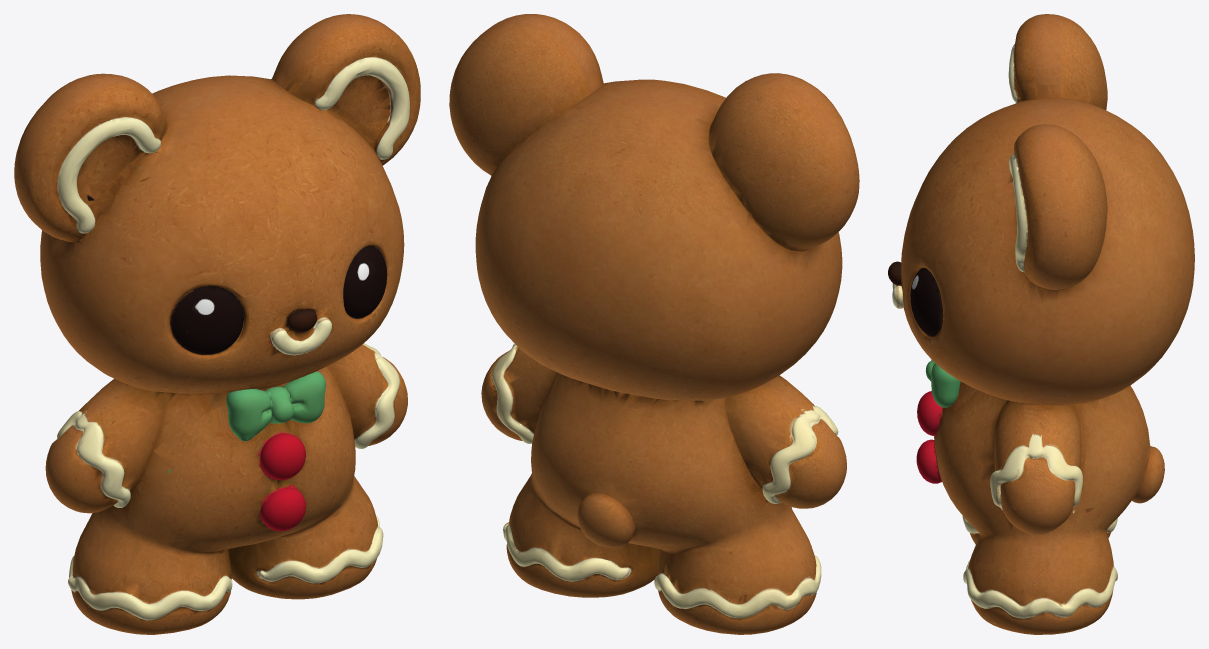
The model's file is Ginger.fbx.
3 renders of one model, left to right at view 1: azimuth 30°, elevation 25°; view 2: azimuth 150°, elevation 25°; view 3: azimuth 270°, elevation 25°, orthographic. The views are drawn at different scales.
Visible parts, largest first — view 1: Mesh_0; view 2: Mesh_0; view 3: Mesh_0.
Part boxes in pixels (box(x1,y1,x2,y2)): Mesh_0: box(14, 14, 420, 634); Mesh_0: box(449, 14, 859, 634); Mesh_0: box(888, 14, 1194, 634).
Size of the model in its own units: 148 by 194 by 107.
Materials: 1 (1 with a texture image).
